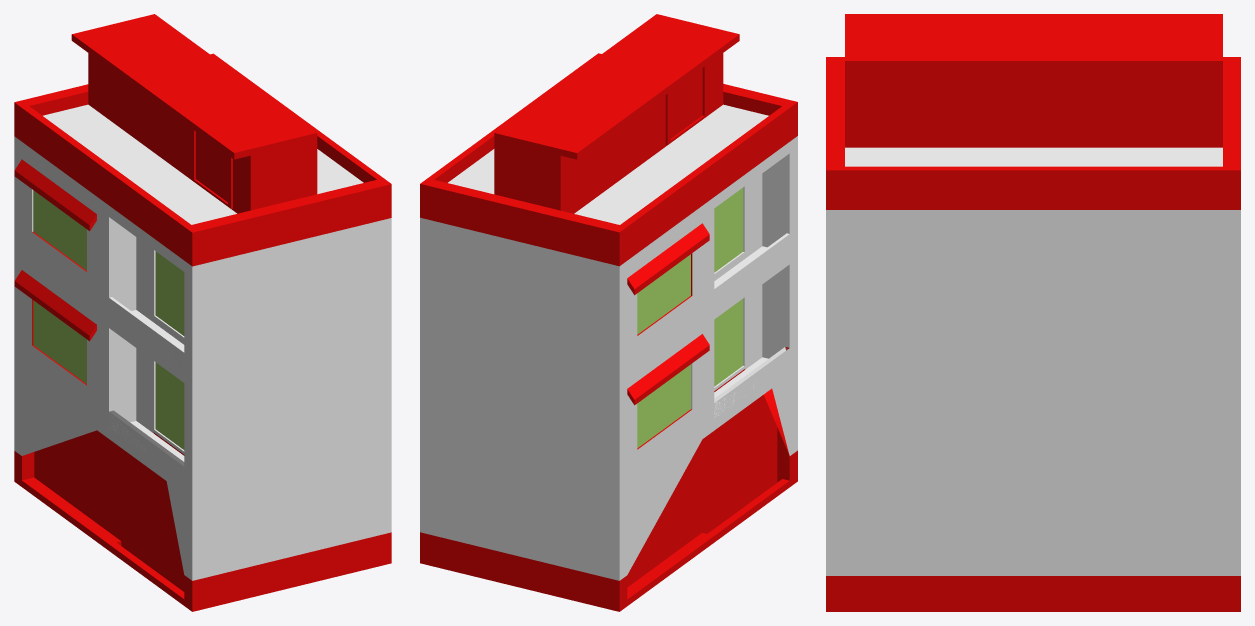
Rendered from Hotel.fbx.
The picture shows the model from 3 angles, left to right: view 1: azimuth 30°, elevation 25°; view 2: azimuth 150°, elevation 25°; view 3: azimuth 270°, elevation 25°; orthographic projection. The views are drawn at different scales.
Visible parts, largest first — view 1: Hotel; view 2: Hotel; view 3: Hotel.
Boxes of the visible parts, box(x1,y1,x2,y2) form: Hotel: box(14, 14, 391, 611); Hotel: box(420, 14, 797, 611); Hotel: box(826, 14, 1240, 611).
Size of the model in its own units: 438 by 893 by 655.
